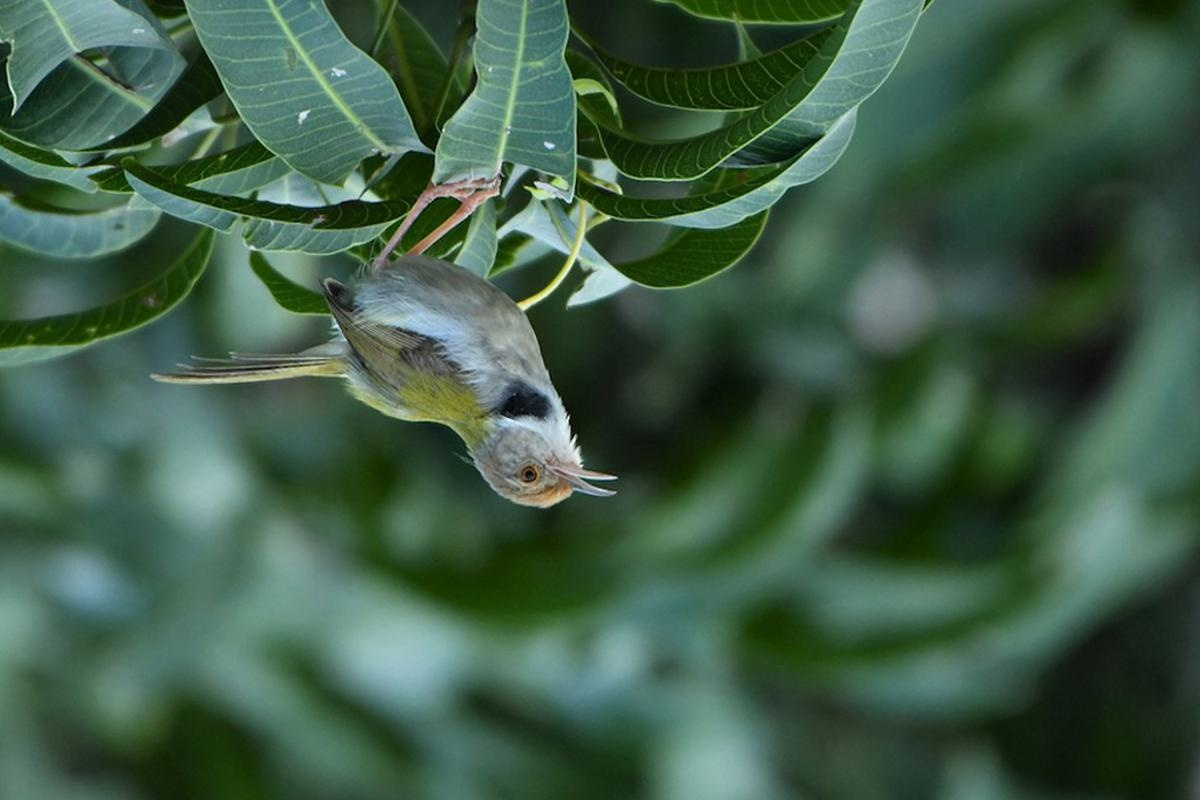tailorbird: (186, 222, 659, 525)
